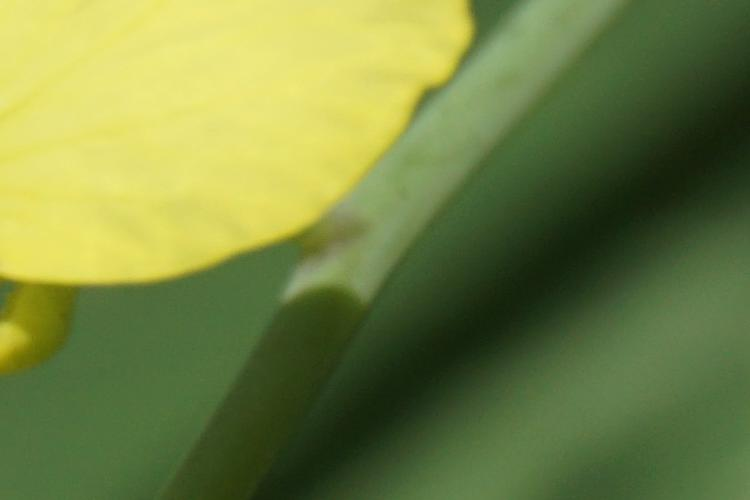yellow: (3, 2, 464, 275)
